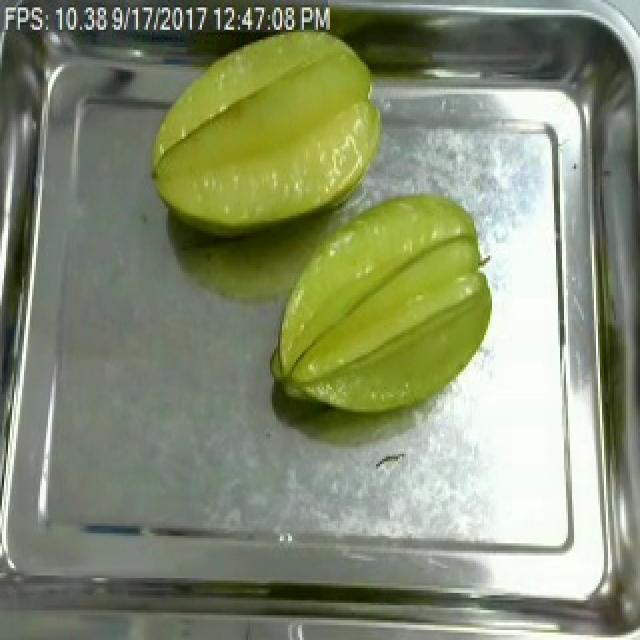fruit: (262, 181, 504, 424), (138, 17, 394, 243)
